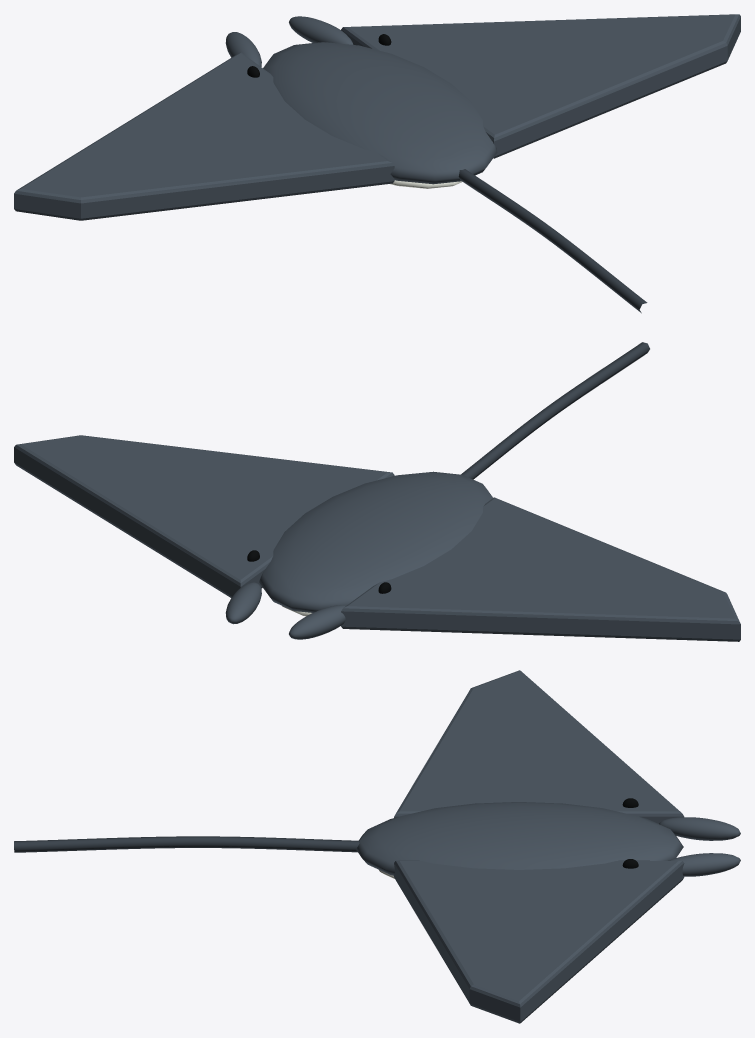
Rendered from ray.glb.
3 renders of one model, top to bottom at view 1: azimuth 30°, elevation 25°; view 2: azimuth 150°, elevation 25°; view 3: azimuth 270°, elevation 25°, orthographic. The views are drawn at different scales.
Visible parts, largest first — view 1: RayWing (×2), RayBodyAssembly, RayTail; view 2: RayWing (×2), RayBodyAssembly, RayTail; view 3: RayWing (×2), RayBodyAssembly, RayTail.
Part boxes in pixels (x1,y1,x2,y2): RayWing (×2): [14, 14, 740, 220]; RayBodyAssembly: [225, 16, 497, 184]; RayTail: [458, 169, 647, 313]; RayWing (×2): [14, 435, 740, 641]; RayBodyAssembly: [225, 471, 492, 639]; RayTail: [461, 342, 649, 479]; RayWing (×2): [394, 670, 684, 1023]; RayBodyAssembly: [356, 802, 740, 876]; RayTail: [14, 836, 359, 852].
Size of the model in its own units: 2.99 by 0.21 by 2.74.
